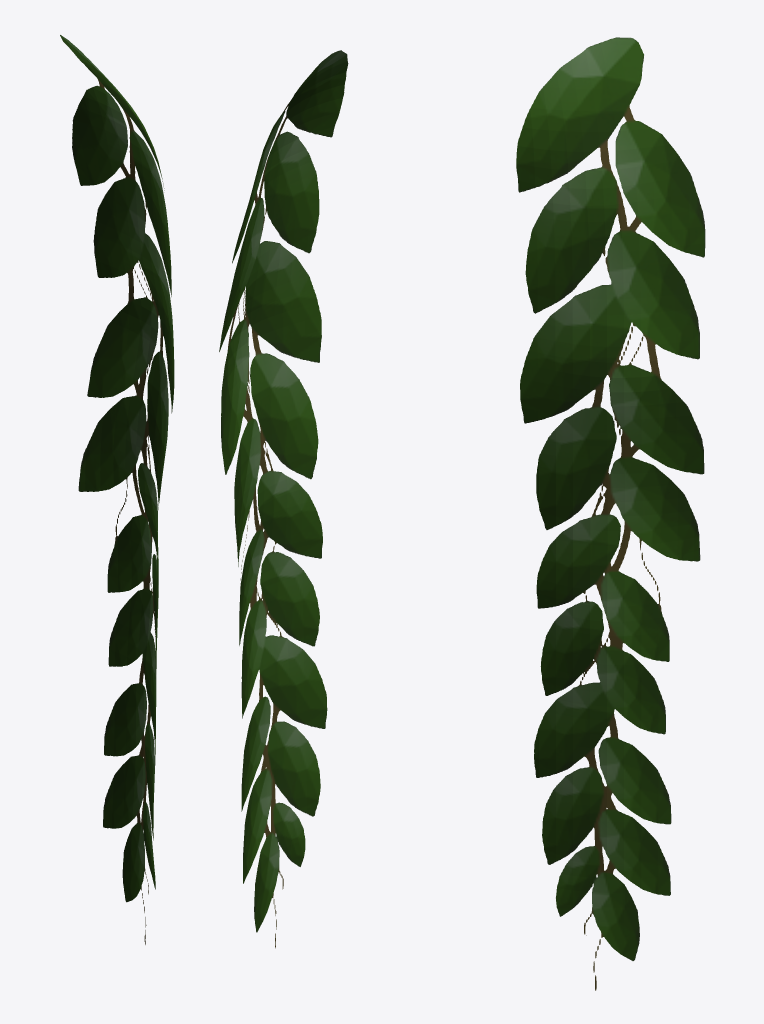
File: HangingVine2.fbx
The picture shows the model from 3 angles, left to right: view 1: azimuth 30°, elevation 25°; view 2: azimuth 150°, elevation 25°; view 3: azimuth 270°, elevation 25°; orthographic projection.
Parts seen in each view (by area): view 1: Plane; view 2: Plane; view 3: Plane.
Part boxes in pixels (x1=…): Plane: x1=60, y1=35, x2=174, y2=944; Plane: x1=219, y1=50, x2=348, y2=948; Plane: x1=516, y1=37, x2=705, y2=990.
Size of the model in its own units: 87.45 by 643 by 175.
